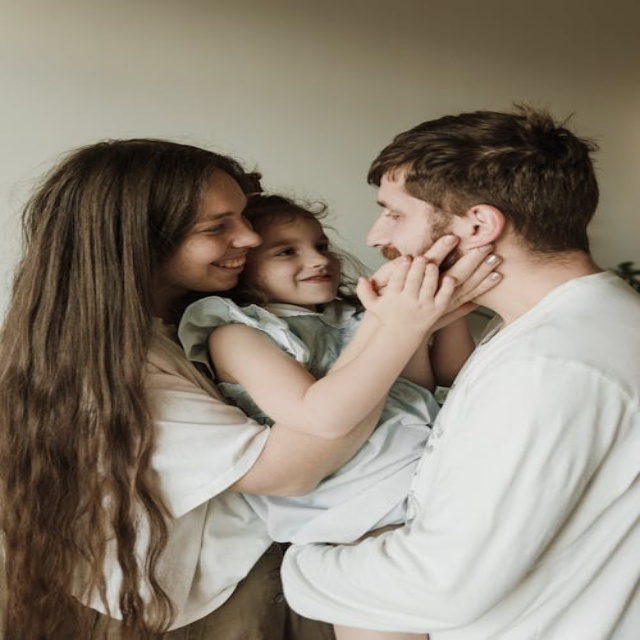Sin_gafas: (186, 198, 250, 238), (370, 193, 430, 224), (264, 235, 334, 261)
Sin_guantes: (357, 233, 501, 334)
Sin_mascara: (197, 248, 252, 285), (284, 269, 340, 299)
